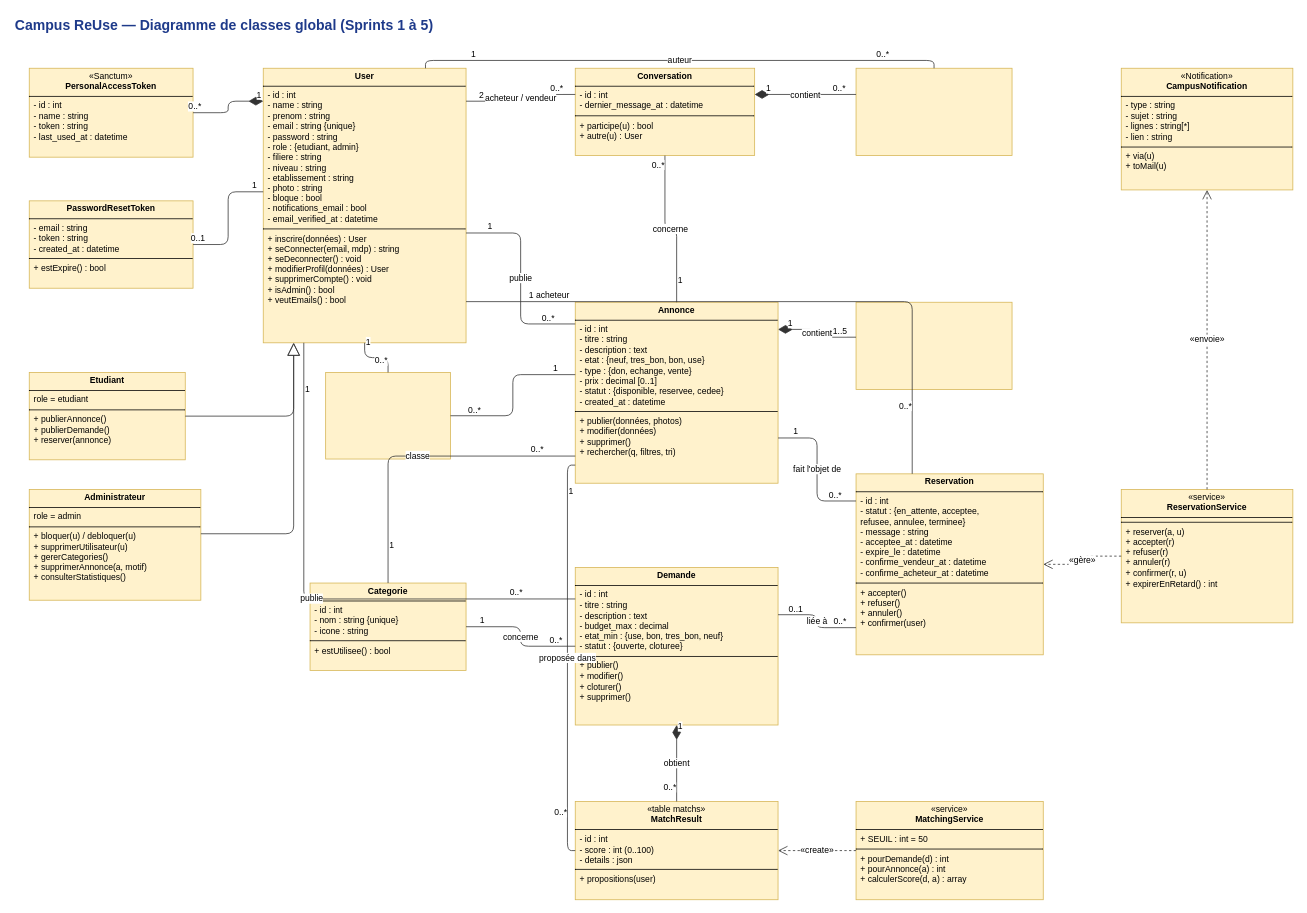
This 1307x913 diagram has some shape labels left out. The shapes that lost their labels are listed below. From the top down, each one's box as (x1, y1, x2, y2) in pixels, then its label:
(855, 67, 1012, 156): Message - id : int - contenu : text - lu_at : datetime [0..1] + marquerLu()
(855, 301, 1012, 390): AnnoncePhoto - id : int - chemin : string - ordre : int + getUrl() : string
(325, 372, 450, 459): «association» Favori - created_at : datetime + ajouter() + retirer()
